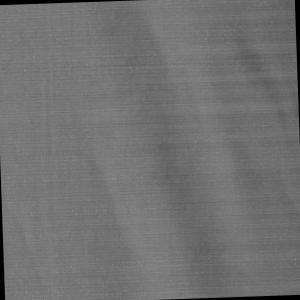Wrinkle: (73, 1, 300, 300)
